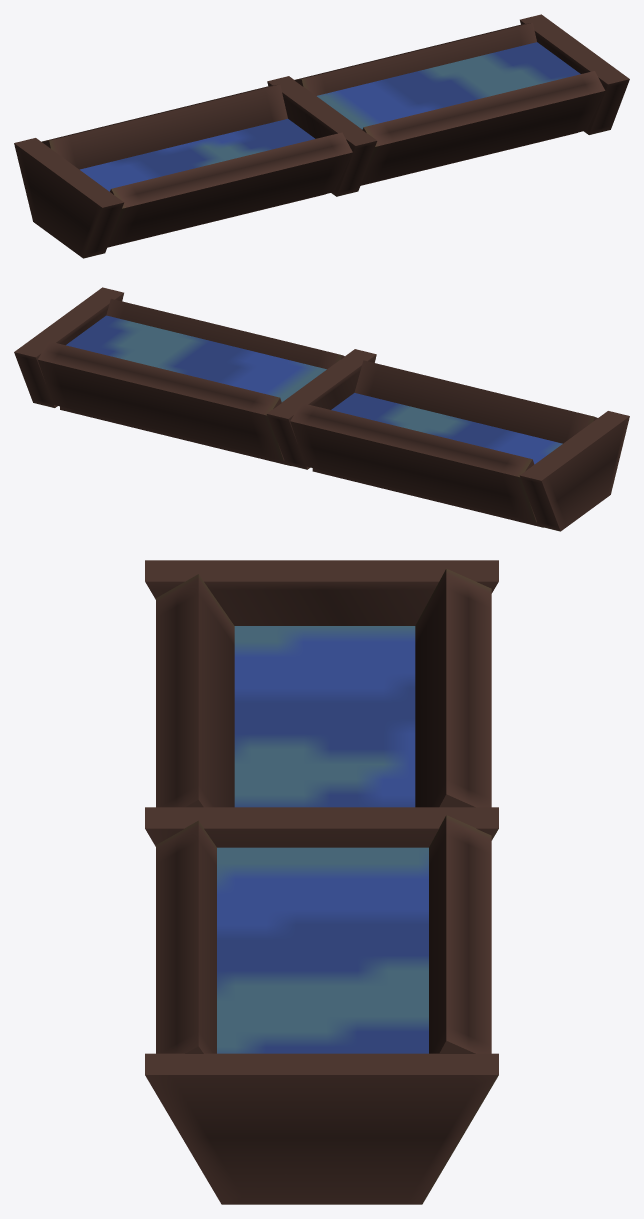
File: water_bowl_v039.fbx
3 renders of one model, top to bottom at view 1: azimuth 30°, elevation 25°; view 2: azimuth 150°, elevation 25°; view 3: azimuth 270°, elevation 25°, orthographic. The views are drawn at different scales.
Visible parts, largest first — view 1: water_bowl_v039; view 2: water_bowl_v039; view 3: water_bowl_v039.
Boxes of the visible parts, x1,y1,x2,y2 form: water_bowl_v039: (14, 14, 629, 258); water_bowl_v039: (14, 287, 629, 531); water_bowl_v039: (145, 560, 498, 1204).
Size of the model in its own units: 505 by 70.19 by 147.
